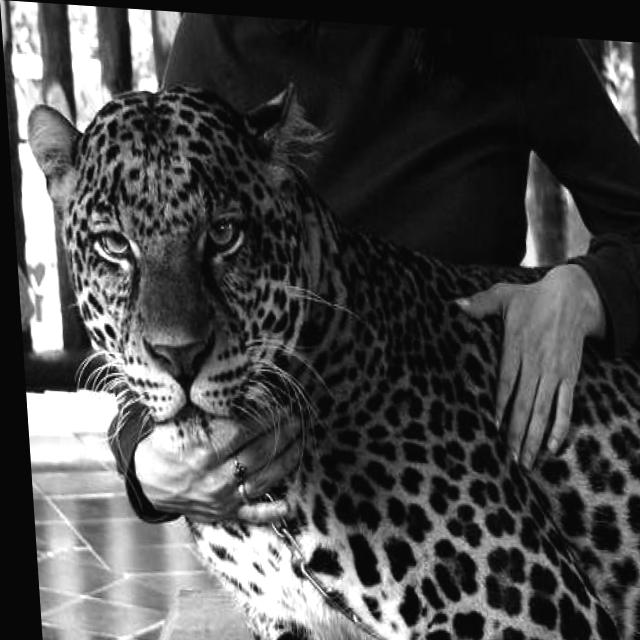Leopard: (22, 61, 640, 640)
